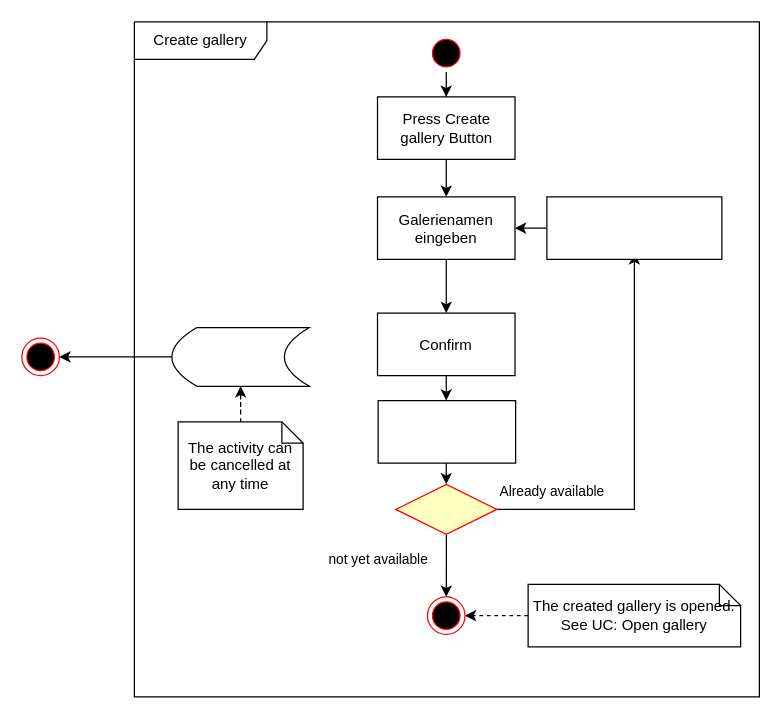
This 781x719 diagram has some shape labels left out. Here are the shapes that lost their labels. From the top down, the centre of each, then its label:
(x=634, y=227): Fehlermeldung anzeigen
(x=240, y=356): Cancel
(x=446, y=431): Validate name
